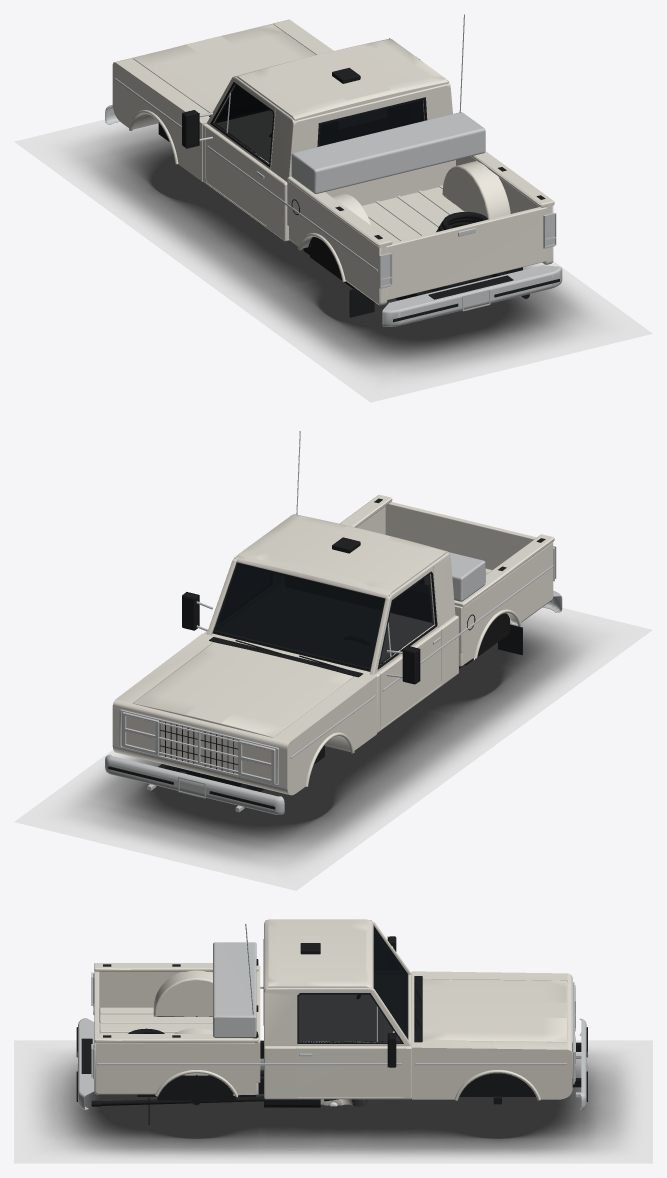
File: saro_truck.glb
The picture shows the model from 3 angles, top to bottom: view 1: azimuth 30°, elevation 25°; view 2: azimuth 150°, elevation 25°; view 3: azimuth 270°, elevation 25°; orthographic projection. The views are drawn at different scales.
Visible parts, largest first — view 1: shadow, body_paint, shell_paint, body_chrome, shell_glass, body_dark, shell_dark; view 2: shadow, body_paint, shell_paint, shell_glass, body_chrome, body_dark, shell_dark; view 3: shadow, body_paint, shell_paint, body_chrome, body_dark, shell_glass, shell_dark, shell_chrome.
Part boxes in pixels (left/top/right/bottom): shadow: left=14, top=119, right=652, bottom=402; body_paint: left=112, top=19, right=554, bottom=305; shell_paint: left=203, top=39, right=452, bottom=241; body_chrome: left=105, top=14, right=562, bottom=326; shell_glass: left=214, top=85, right=424, bottom=162; body_dark: left=158, top=59, right=559, bottom=322; shell_dark: left=210, top=67, right=427, bottom=167; shadow: left=14, top=607, right=652, bottom=890; body_paint: left=112, top=494, right=554, bottom=795; shell_paint: left=203, top=514, right=458, bottom=732; shell_glass: left=215, top=564, right=433, bottom=667; body_chrome: left=105, top=431, right=562, bottom=814; body_dark: left=108, top=498, right=545, bottom=809; shell_dark: left=212, top=537, right=437, bottom=671; shadow: left=14, top=1040, right=652, bottom=1163; body_paint: left=94, top=963, right=572, bottom=1100; shell_paint: left=264, top=919, right=411, bottom=1099; body_chrome: left=77, top=923, right=587, bottom=1109; body_dark: left=76, top=936, right=587, bottom=1124; shell_glass: left=298, top=927, right=406, bottom=1041; shell_dark: left=263, top=925, right=408, bottom=1043; shell_chrome: left=256, top=920, right=401, bottom=1065.
Bounding box in the file's own units: 3.2 × 2.97 × 7.
Materials: 9 (1 with a texture image).
